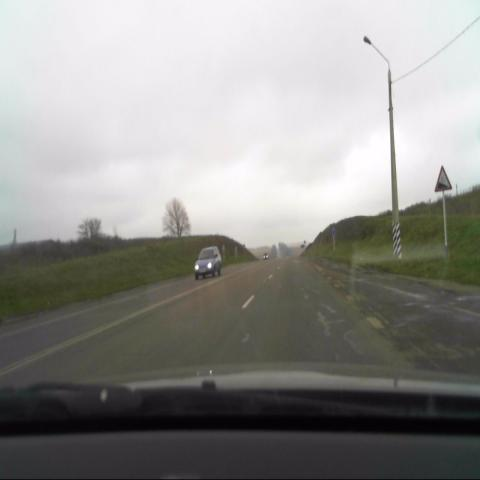1_13: (432, 164, 451, 193)
